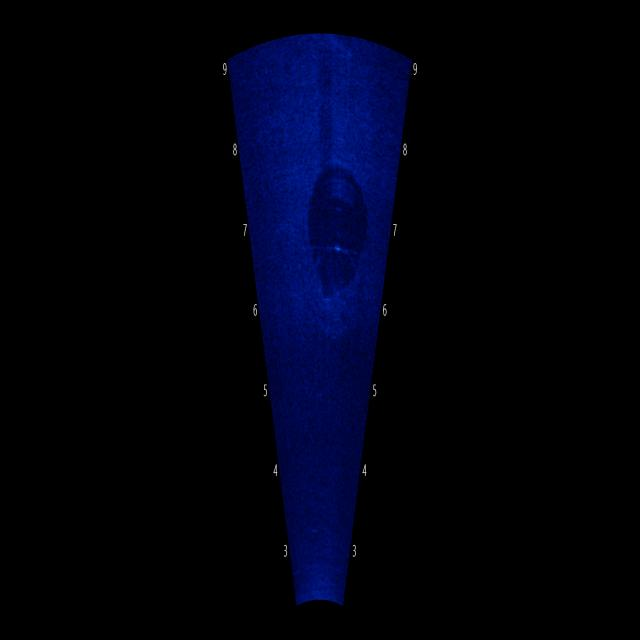circle: (299, 122, 379, 318)
